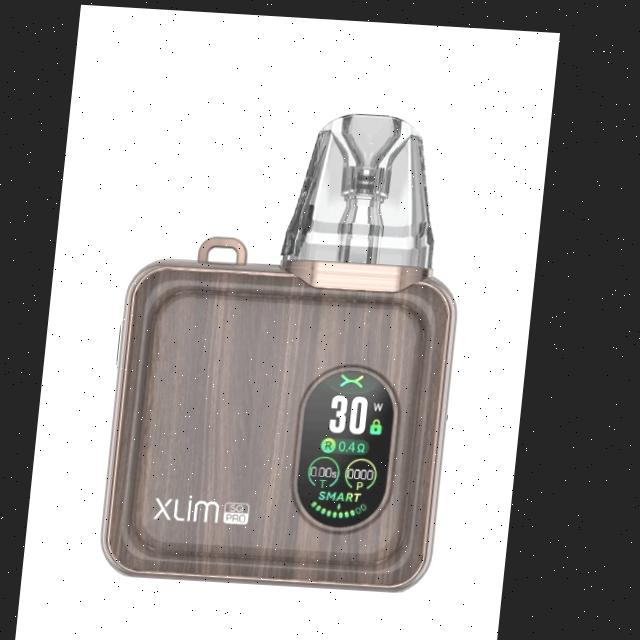vape: (106, 97, 481, 591)
